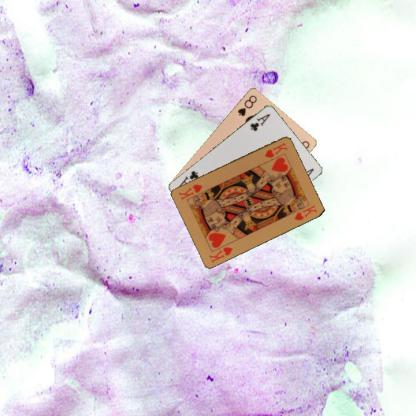8s: (235, 92, 258, 118)
Ac: (247, 111, 272, 132)
Kh: (262, 139, 289, 159), (206, 244, 234, 263)
